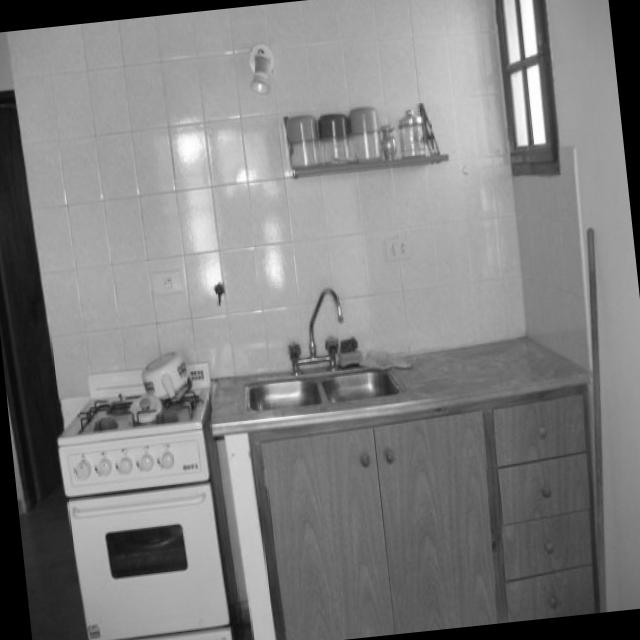2001: (496, 0, 558, 168)
2036: (216, 326, 587, 426)
broomstick: (582, 216, 608, 610)
cabinet door: (373, 412, 496, 628)
drawer handle: (488, 389, 591, 467)
faucet handle: (280, 277, 359, 371)
jar -X: (343, 99, 387, 178), (284, 112, 321, 174)
kitchen utensils: (245, 379, 604, 640)
knob: (356, 450, 371, 470)
lamp crop: (245, 41, 278, 103)
outlet: (146, 265, 190, 301)
oven cloth: (67, 488, 226, 640)
sink basin: (245, 361, 402, 410)
specular reflection: (177, 127, 203, 161)
stove burner: (55, 363, 210, 497)
switch: (384, 233, 413, 261)
tile wall: (127, 120, 179, 198)
